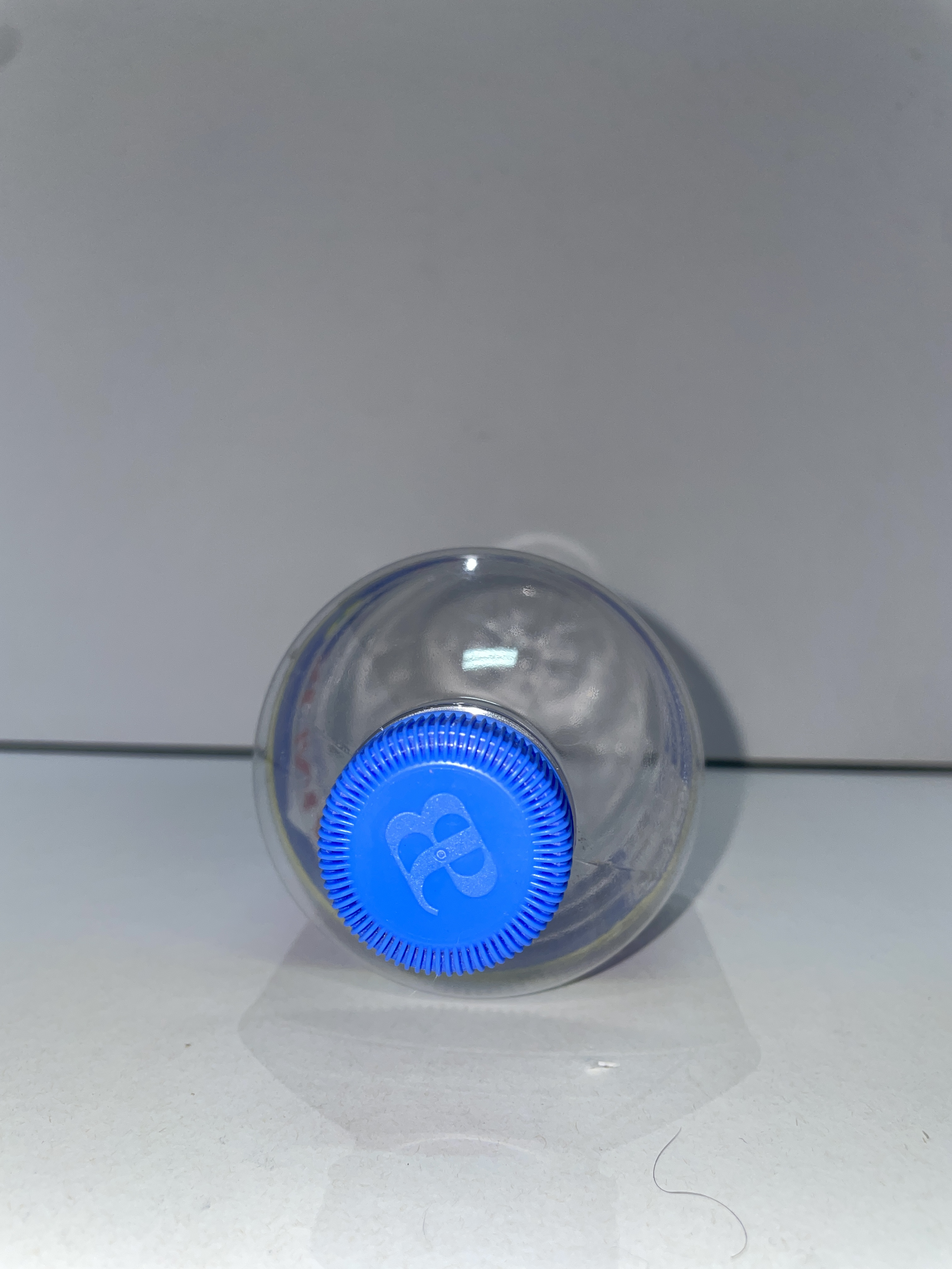Summit 1000ml: (255, 548, 700, 994)
